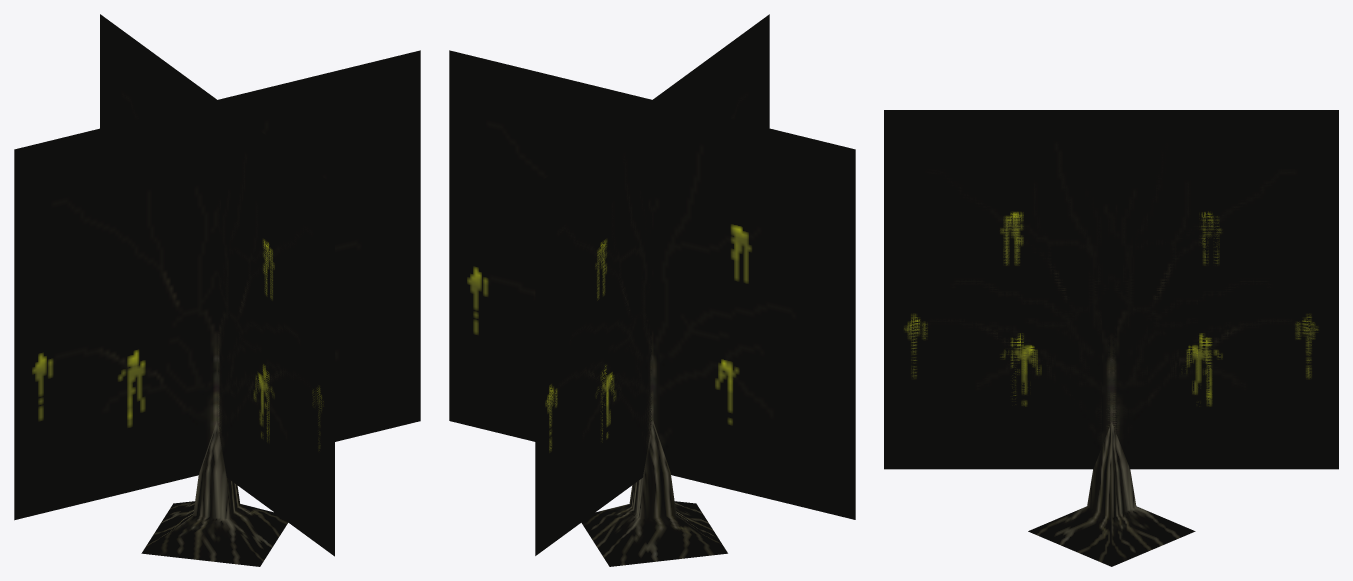
The model's file is willow1dead.glb.
3 renders of one model, left to right at view 1: azimuth 30°, elevation 25°; view 2: azimuth 150°, elevation 25°; view 3: azimuth 270°, elevation 25°, orthographic. The views are drawn at different scales.
Parts seen in each view (by area): view 1: Box02; view 2: Box02; view 3: Box02.
Boxes of the visible parts, x1,y1,x2,y2 form: Box02: (14, 14, 420, 566); Box02: (449, 14, 855, 566); Box02: (884, 110, 1338, 566).
Bounding box in the file's own units: 10.31 × 10.55 × 10.31.
Materials: 1 (1 with a texture image).
